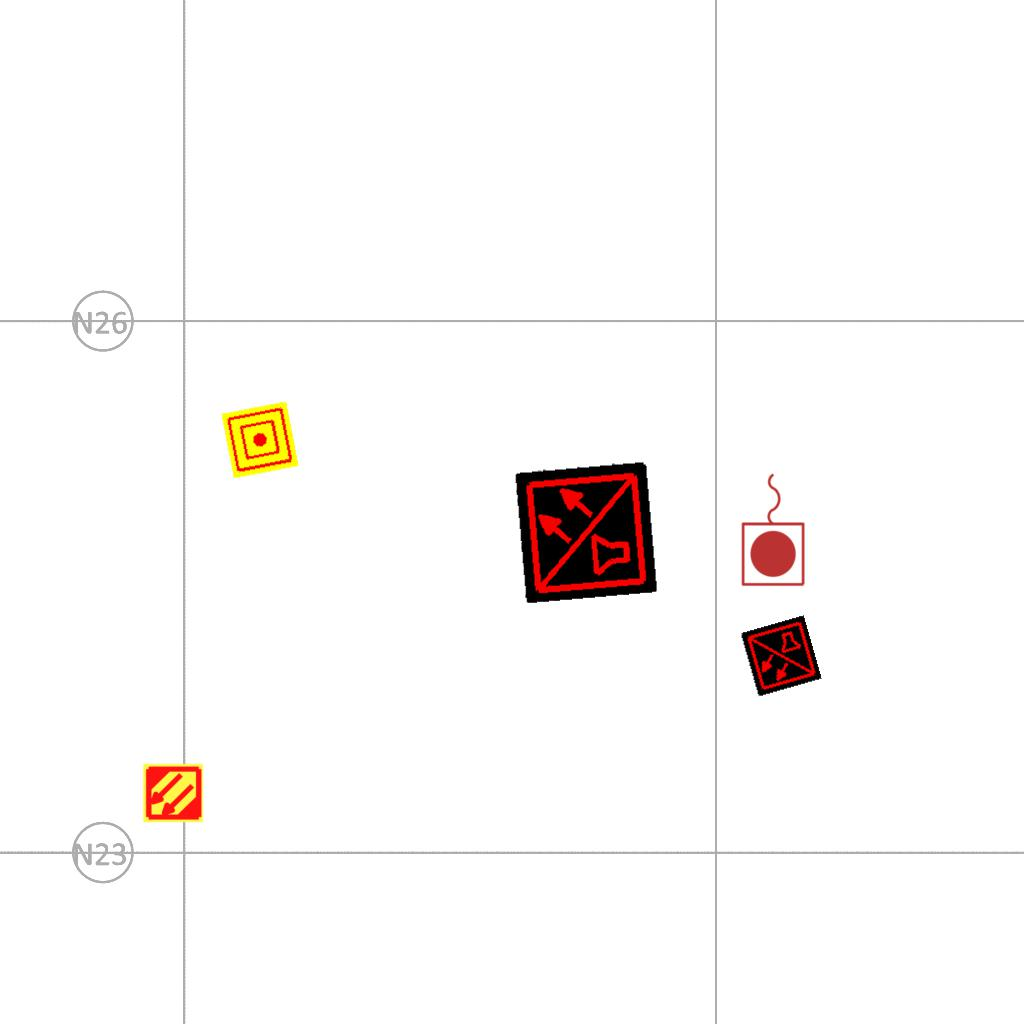ASR_Ansaugrauchmelder: (142, 762, 204, 824)
NAM-Nichtautomatischer_Melder: (221, 401, 299, 479)
OKW_Multisensormelder_(Kombination_optischer_Rauch-Kahlenmonoxid_Waerme-Melder): (514, 460, 658, 604), (740, 615, 822, 697)
Zugtaster: (738, 468, 810, 590)
